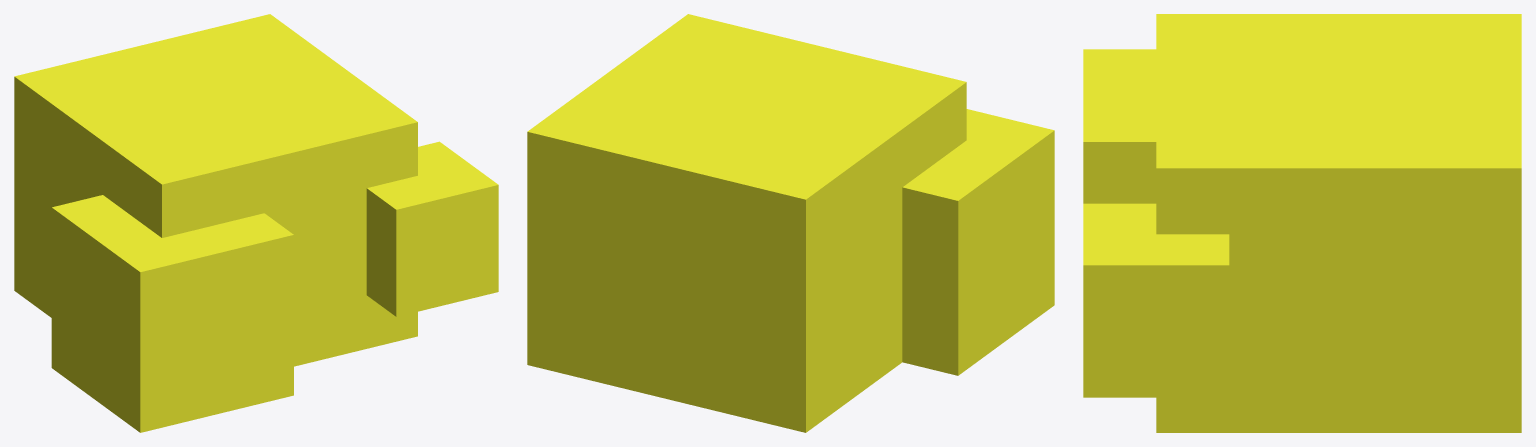
Rendered from Mineral-0.obj.
3 renders of one model, left to right at view 1: azimuth 30°, elevation 25°; view 2: azimuth 150°, elevation 25°; view 3: azimuth 270°, elevation 25°, orthographic. The views are drawn at different scales.
Parts seen in each view (by area): view 1: Untitled.001; view 2: Untitled.001; view 3: Untitled.001.
Boxes of the visible parts, bbox=[...] form: Untitled.001: bbox=[14, 14, 498, 432]; Untitled.001: bbox=[527, 14, 1054, 432]; Untitled.001: bbox=[1083, 14, 1521, 432].
Size of the model in its own units: 0.7 by 0.4 by 0.6.
